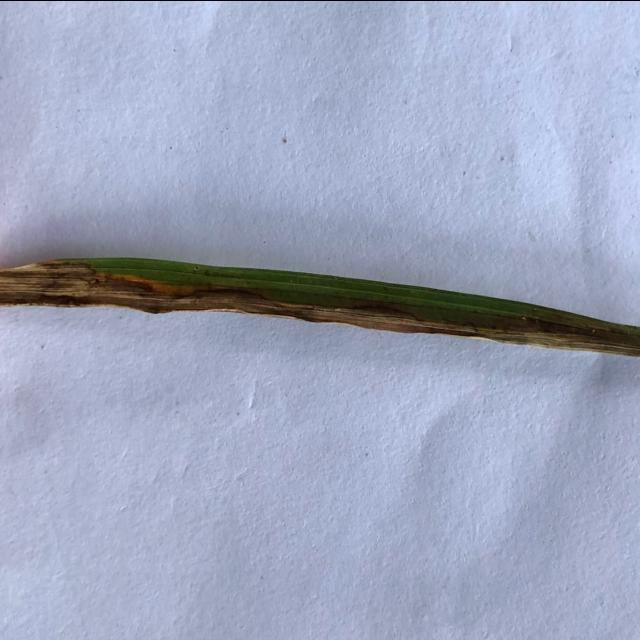Leaf Blight: (0, 262, 640, 355)
